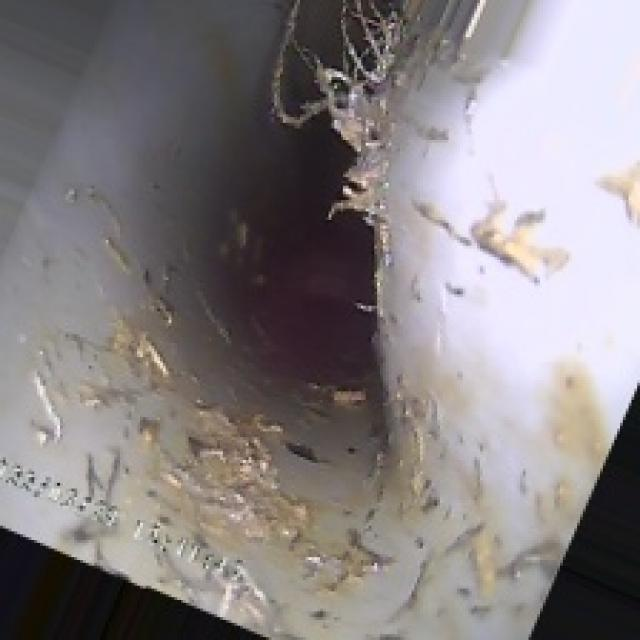shape_deformation: (66, 29, 531, 528)
